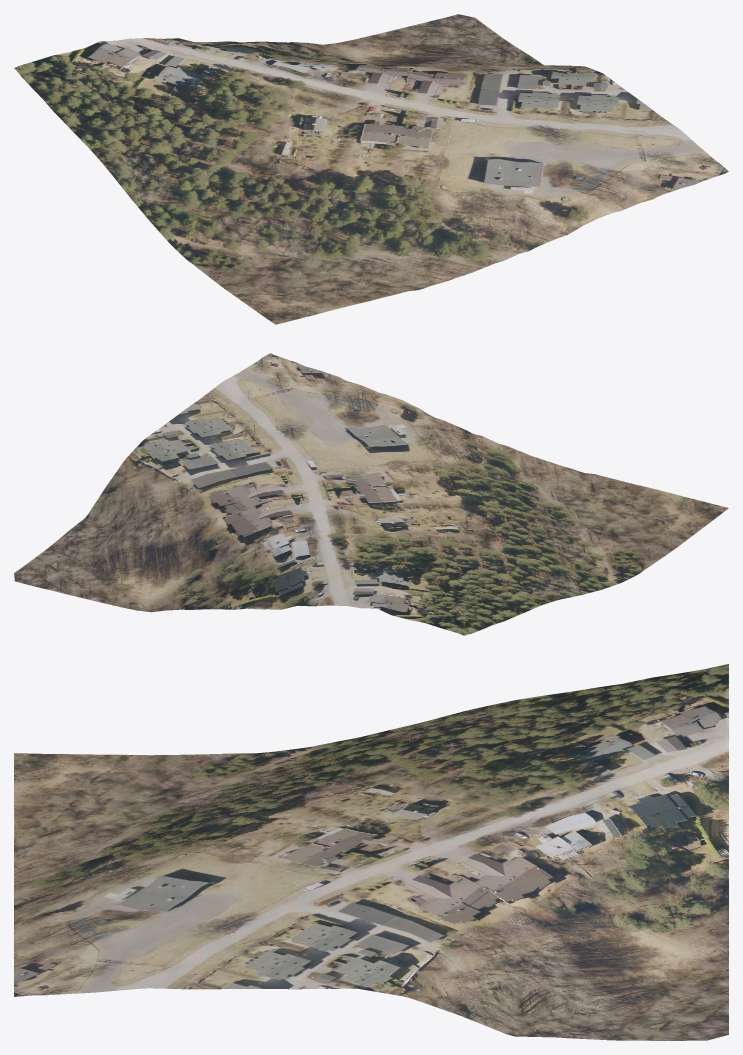
File: CM_Terrain_24492302_6818770.fbx
The picture shows the model from 3 angles, top to bottom: view 1: azimuth 30°, elevation 25°; view 2: azimuth 150°, elevation 25°; view 3: azimuth 270°, elevation 25°; orthographic projection. The views are drawn at different scales.
Parts seen in each view (by area): view 1: CM_Terrain_24492302_6818770_LOD0; view 2: CM_Terrain_24492302_6818770_LOD0; view 3: CM_Terrain_24492302_6818770_LOD0.
Boxes of the visible parts, bbox=[...] form: CM_Terrain_24492302_6818770_LOD0: bbox=[14, 14, 728, 324]; CM_Terrain_24492302_6818770_LOD0: bbox=[14, 353, 728, 635]; CM_Terrain_24492302_6818770_LOD0: bbox=[14, 664, 728, 1040].
Size of what is drawn, in the model's own units: 205 by 31.34 by 205.
